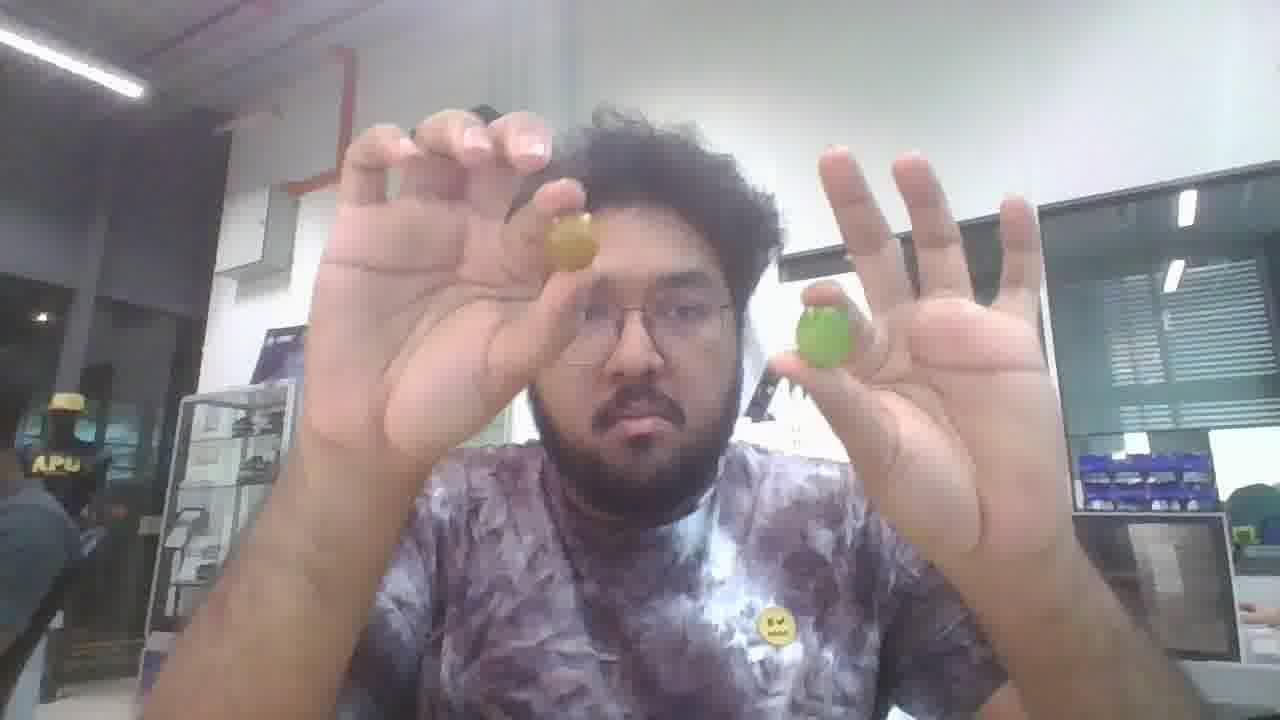green_cherry_tomato: (796, 306, 851, 366)
yellow_cherry_tomato: (546, 212, 598, 271)
